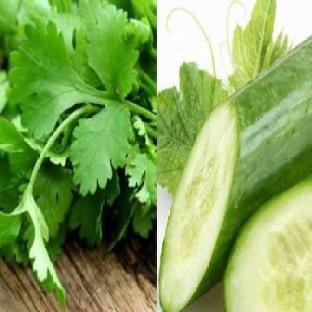Cucumber: (160, 40, 311, 311), (225, 180, 311, 311)
